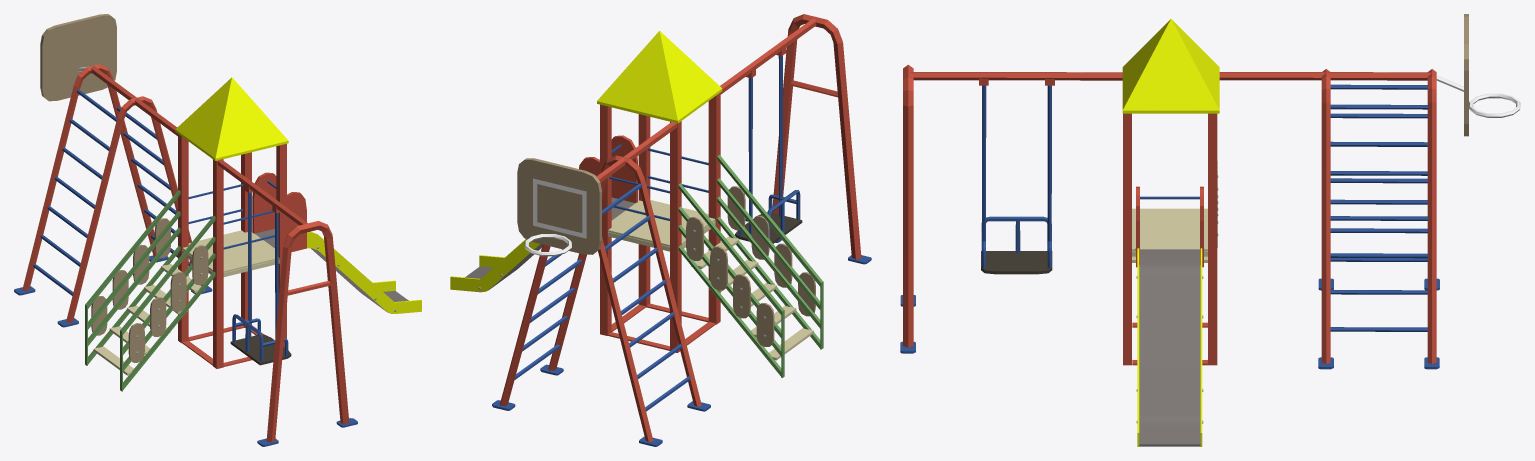
File: SM_Playground_02.fbx
3 renders of one model, left to right at view 1: azimuth 30°, elevation 25°; view 2: azimuth 150°, elevation 25°; view 3: azimuth 270°, elevation 25°, orthographic. The views are drawn at different scales.
Visible parts, largest first — view 1: SM_Playground_02; view 2: SM_Playground_02; view 3: SM_Playground_02.
Boxes of the visible parts, x1,y1,x2,y2 form: SM_Playground_02: [14, 14, 421, 446]; SM_Playground_02: [450, 14, 871, 446]; SM_Playground_02: [900, 14, 1520, 446].
Size of the model in its own units: 384 by 324 by 558.
